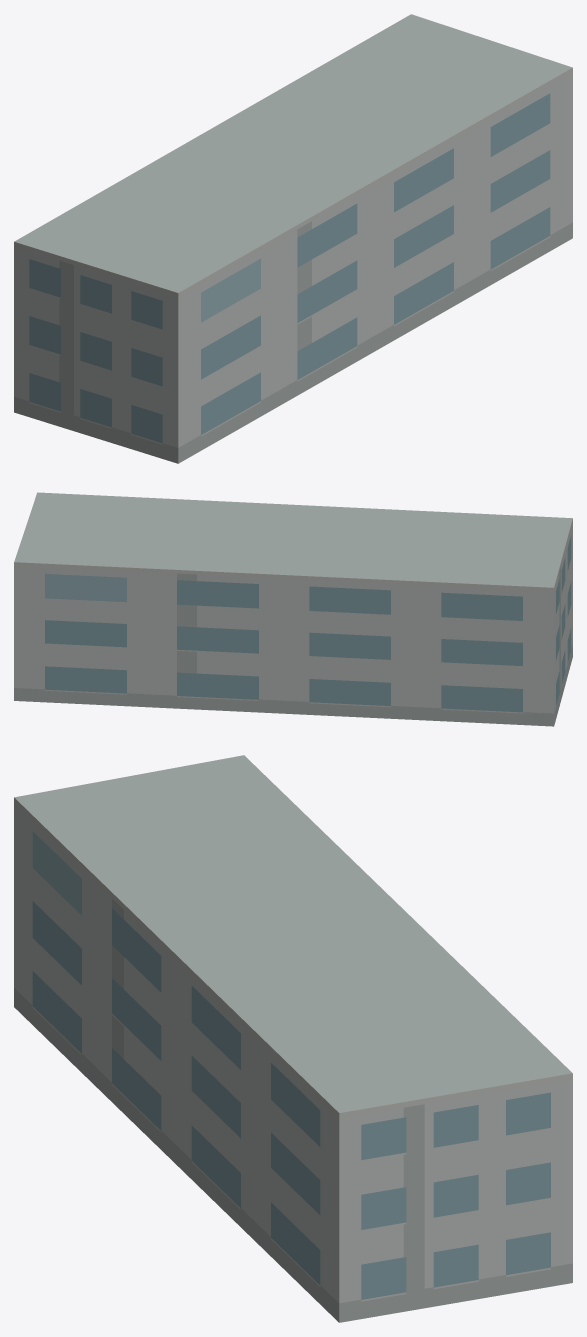
Rendered from survey-upis-32585649.glb.
3 renders of one model, top to bottom at view 1: azimuth 30°, elevation 25°; view 2: azimuth 150°, elevation 25°; view 3: azimuth 270°, elevation 25°, orthographic. The views are drawn at different scales.
Visible parts, largest first — view 1: survey-upis-32585649.tmp; view 2: survey-upis-32585649.tmp; view 3: survey-upis-32585649.tmp.
Boxes of the visible parts, box(x1,y1,x2,y2) form: survey-upis-32585649.tmp: box(14, 14, 572, 463); survey-upis-32585649.tmp: box(14, 492, 572, 726); survey-upis-32585649.tmp: box(14, 755, 572, 1322).
Size of the model in its own units: 33.52 by 9.15 by 22.11.
